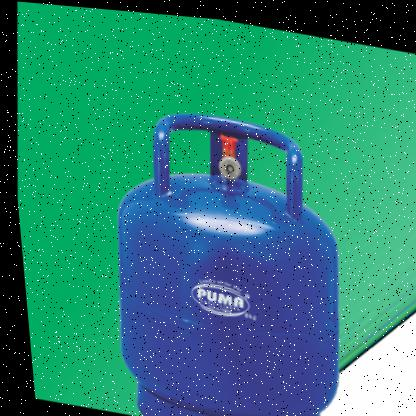gas-tank: (71, 75, 385, 415)
